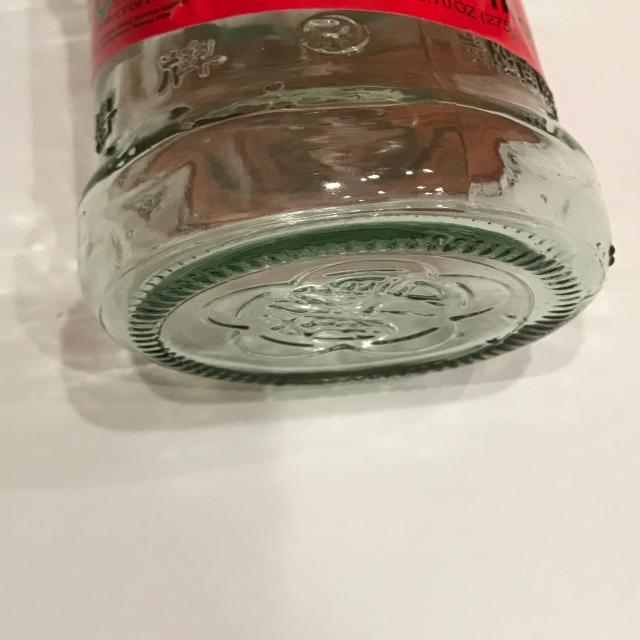glass: (84, 0, 618, 392)
